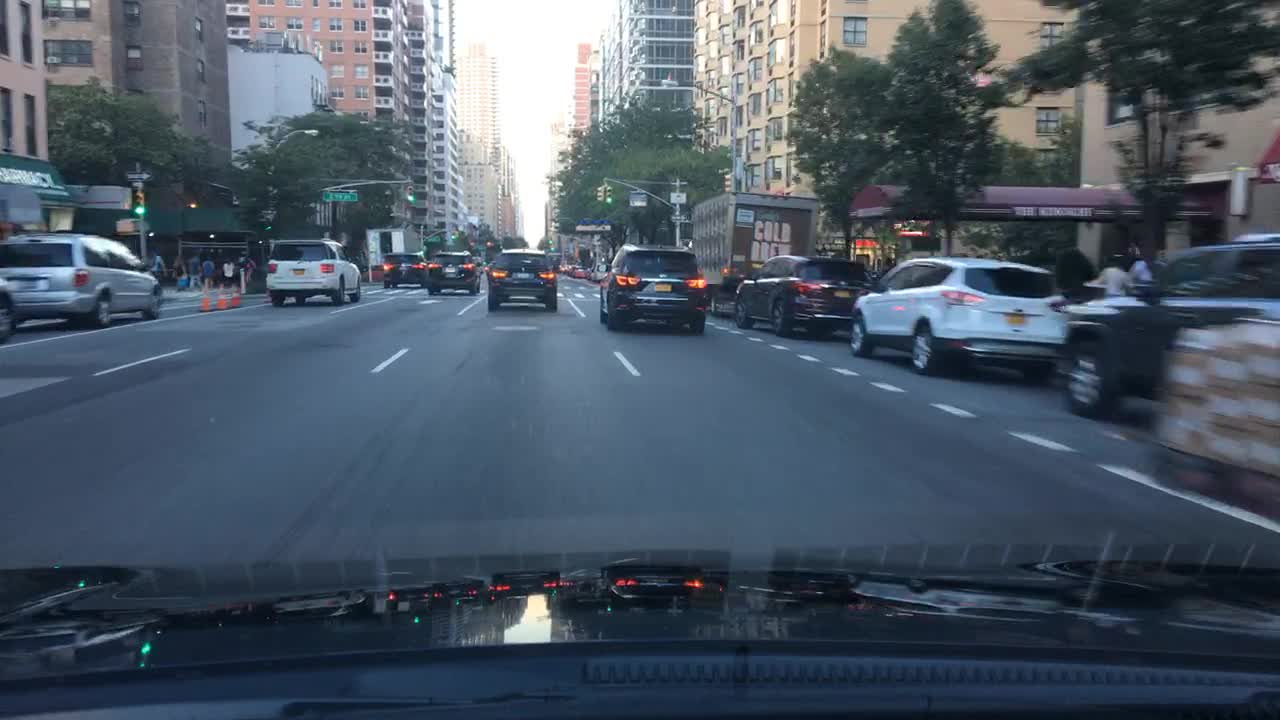car: (1056, 233, 1277, 416), (850, 253, 1070, 375), (0, 232, 162, 330), (729, 253, 874, 335), (590, 245, 708, 331), (264, 237, 361, 308), (485, 248, 560, 313), (425, 248, 477, 295), (381, 252, 421, 291), (0, 277, 17, 341), (593, 263, 607, 286), (561, 265, 575, 278), (575, 267, 590, 279)
person: (1053, 237, 1095, 299), (1081, 254, 1129, 299), (1125, 233, 1152, 281), (198, 255, 215, 294), (147, 248, 163, 289), (239, 250, 257, 281), (168, 257, 183, 291), (185, 254, 197, 293), (223, 258, 237, 290)
traffic light: (116, 217, 139, 233), (131, 187, 144, 215), (721, 173, 731, 194), (404, 185, 416, 202), (596, 184, 605, 200), (605, 185, 612, 203)
traffic sign: (323, 190, 360, 203), (573, 219, 611, 230), (736, 208, 753, 228), (126, 170, 153, 180), (627, 192, 646, 205), (671, 190, 687, 203), (670, 212, 688, 222)
truck: (688, 193, 821, 318), (363, 228, 421, 277)
